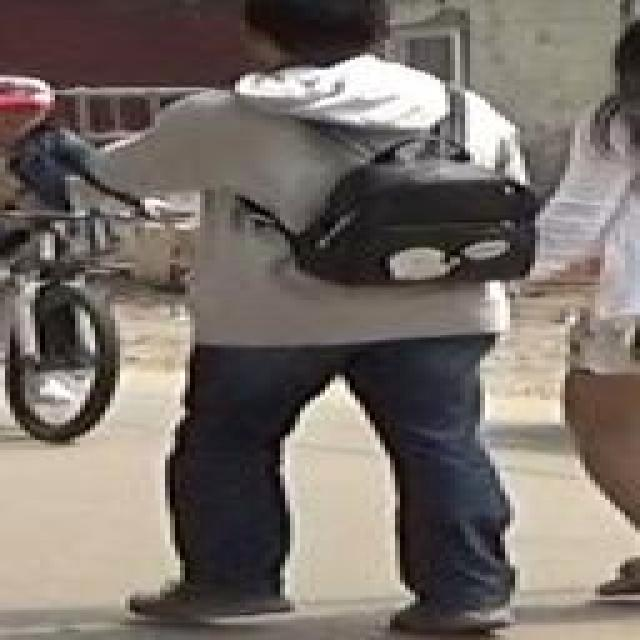adult: (132, 0, 554, 640), (520, 44, 640, 605), (0, 78, 140, 336)
